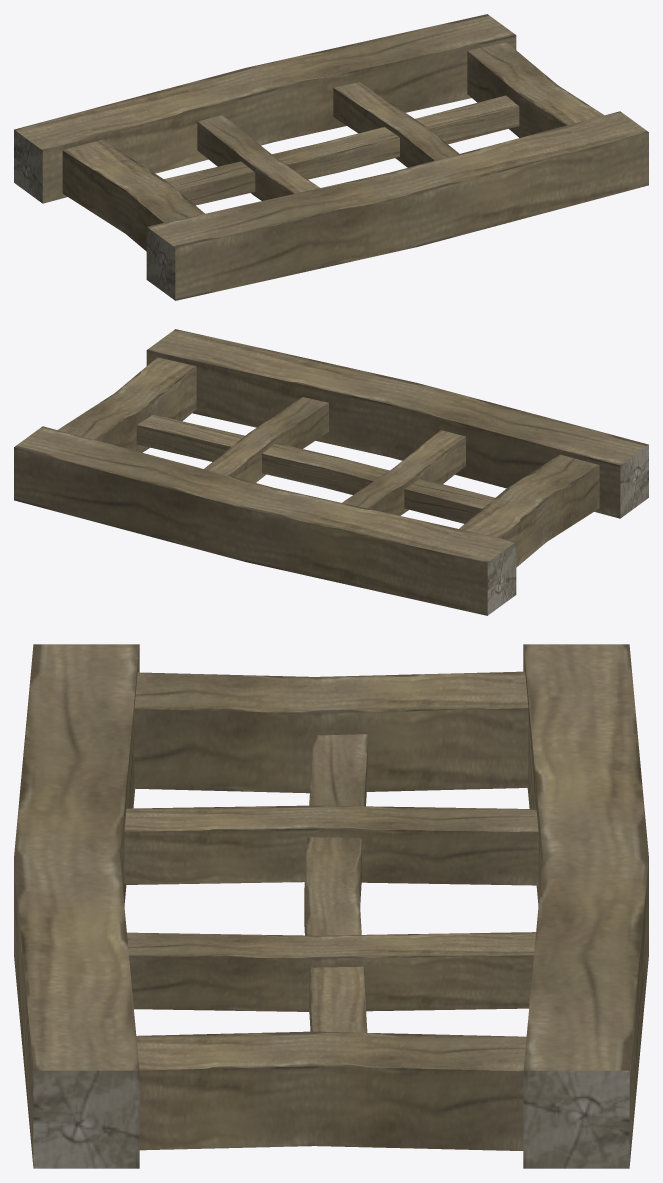
File: Window_B.fbx
3 renders of one model, top to bottom at view 1: azimuth 30°, elevation 25°; view 2: azimuth 150°, elevation 25°; view 3: azimuth 270°, elevation 25°, orthographic. The views are drawn at different scales.
Visible parts, largest first — view 1: Window_B; view 2: Window_B; view 3: Window_B.
Part boxes in pixels (box(x1,y1,x2,y2)): Window_B: box(14, 14, 648, 300); Window_B: box(14, 329, 648, 615); Window_B: box(14, 644, 648, 1168).
Bounding box in the file's own units: 2.38 × 0.2555 × 1.5.
